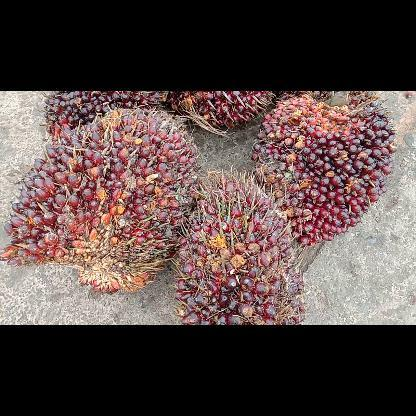Kurang masak: (0, 105, 203, 298), (248, 93, 398, 251), (171, 170, 309, 324)
